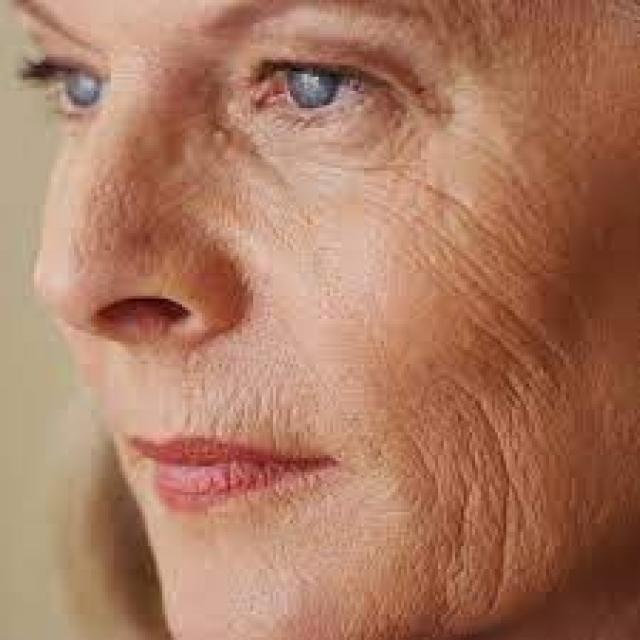dry: (342, 177, 634, 585), (186, 104, 427, 230), (120, 344, 350, 448)
